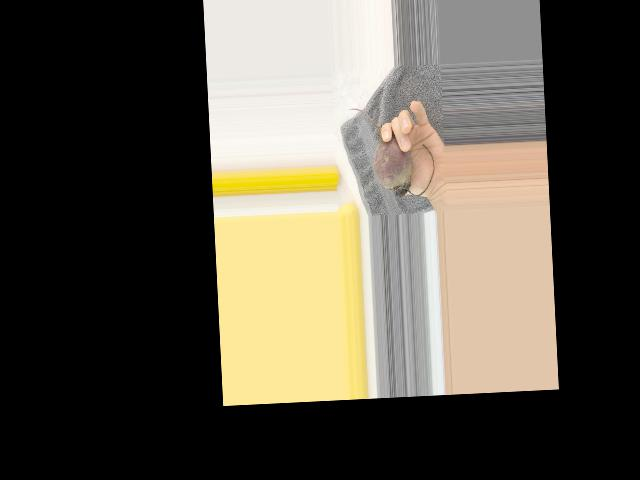beet: (349, 104, 436, 198)
